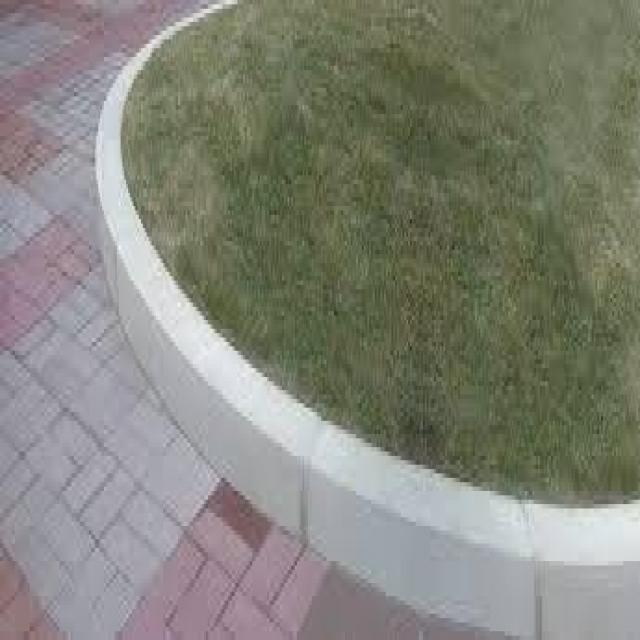curb: (362, 489, 637, 640), (178, 346, 379, 547), (86, 60, 162, 305), (112, 304, 262, 418)
